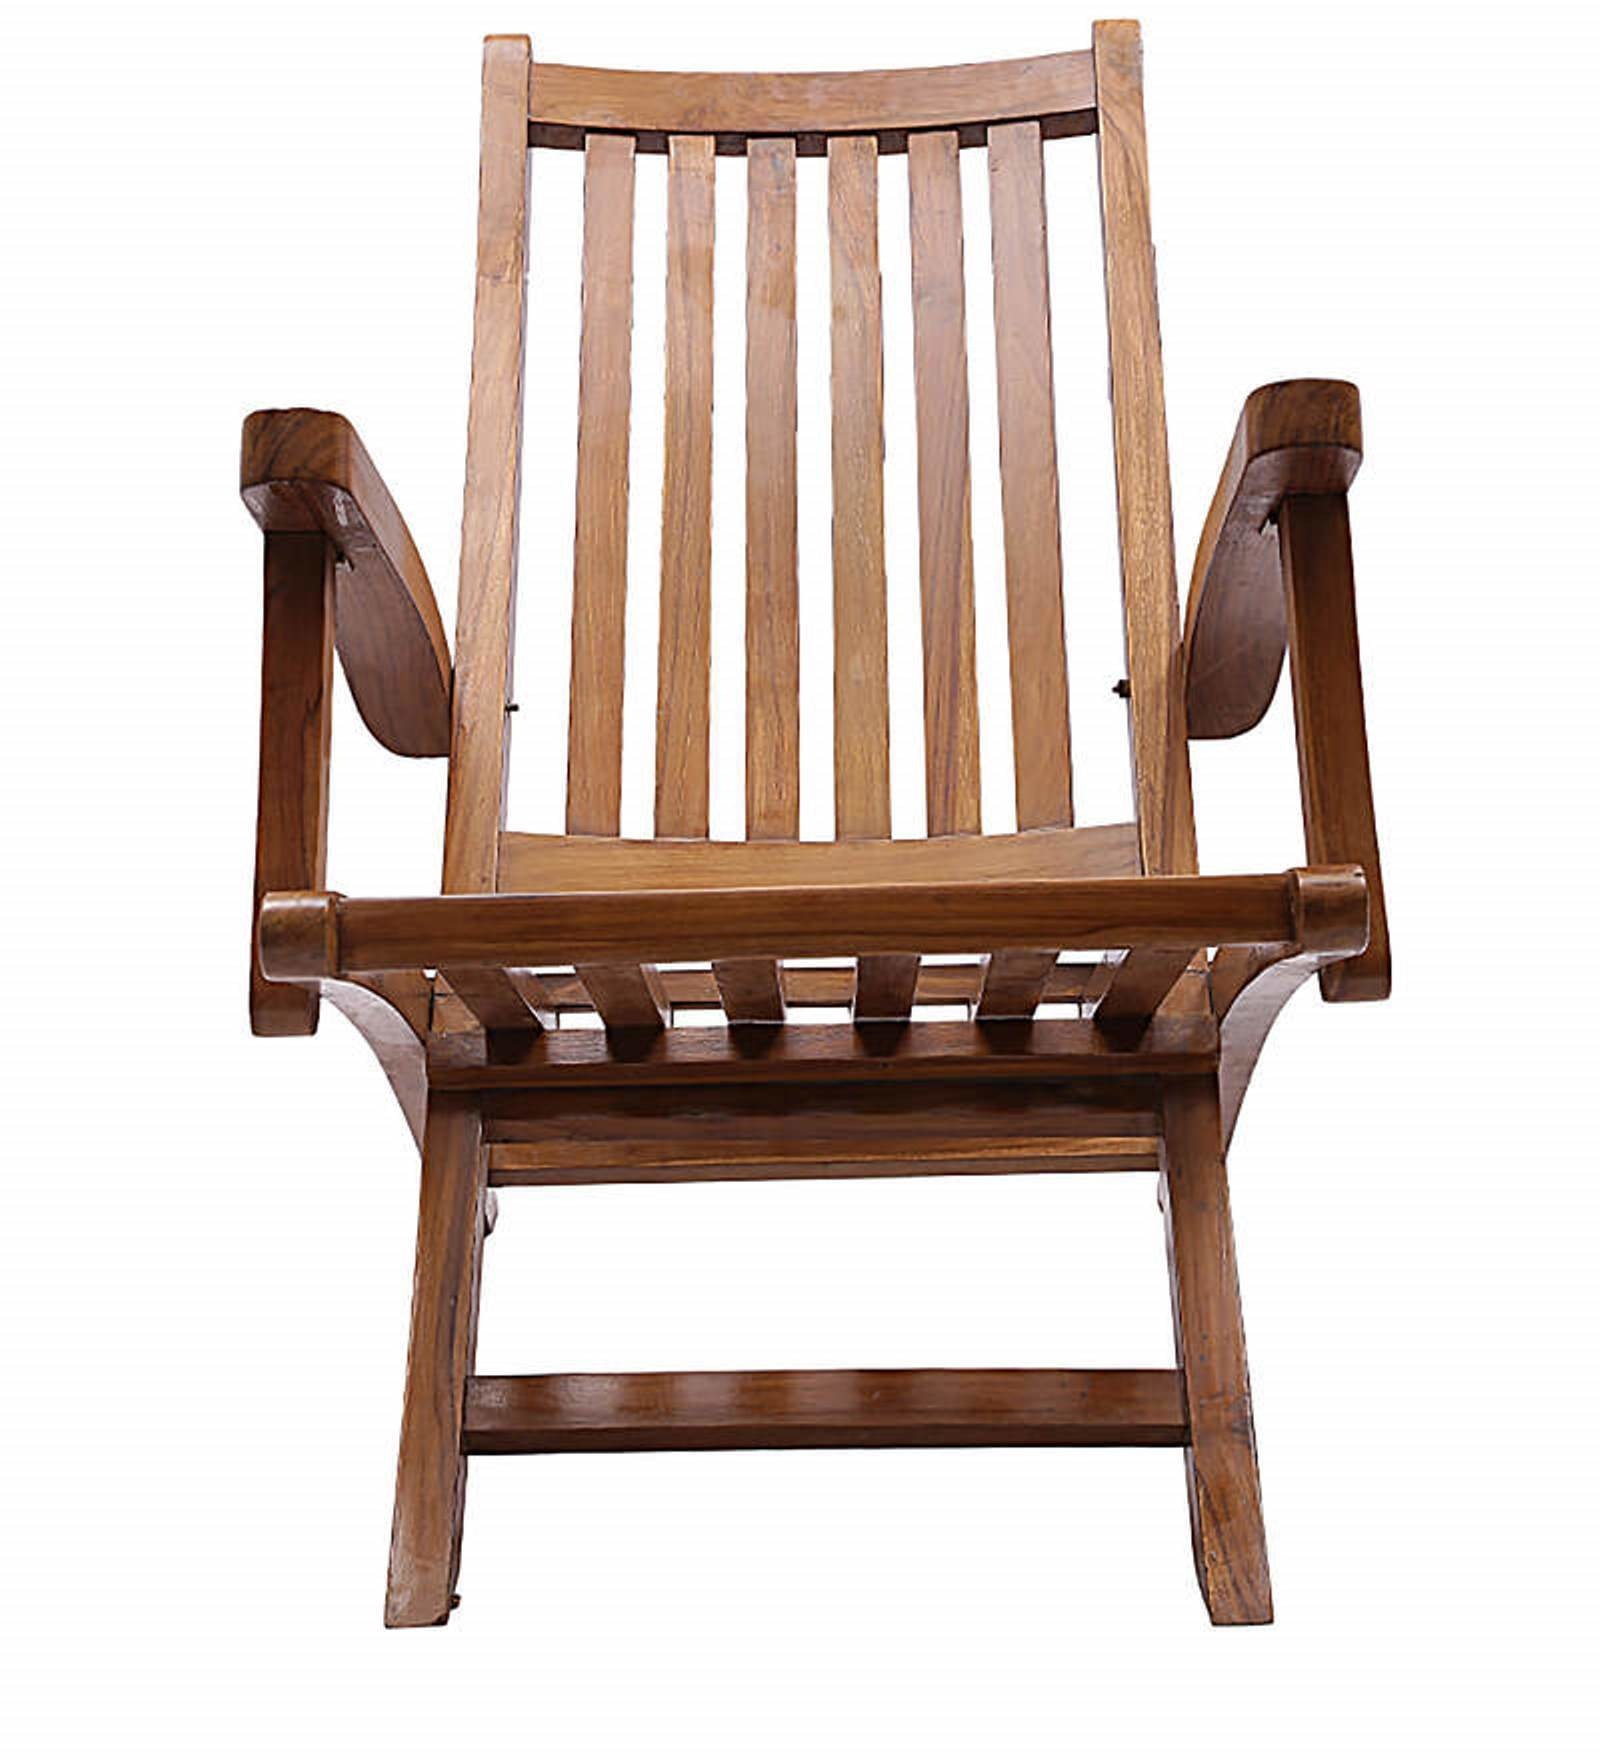Omak Teak Wood Folding Chair in Natural Teak Finish by Finesse: (219, 25, 1413, 1633)
